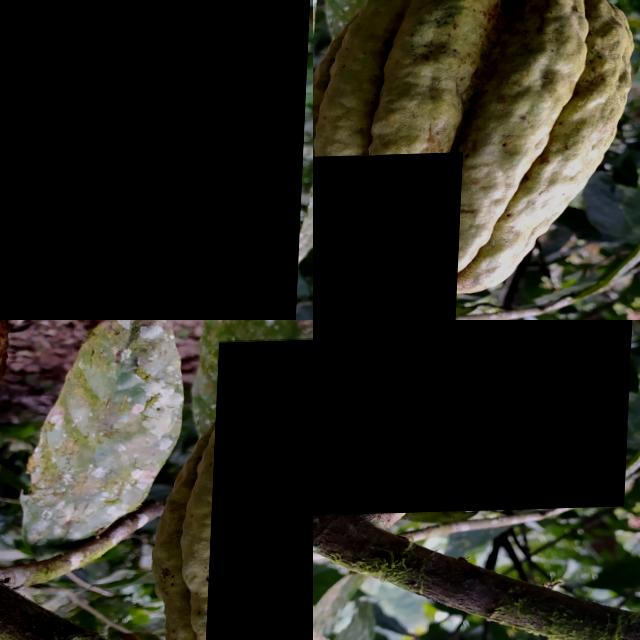Monilia: (313, 154, 465, 320)
Sana: (0, 0, 312, 320), (313, 320, 640, 517), (206, 337, 313, 640)
